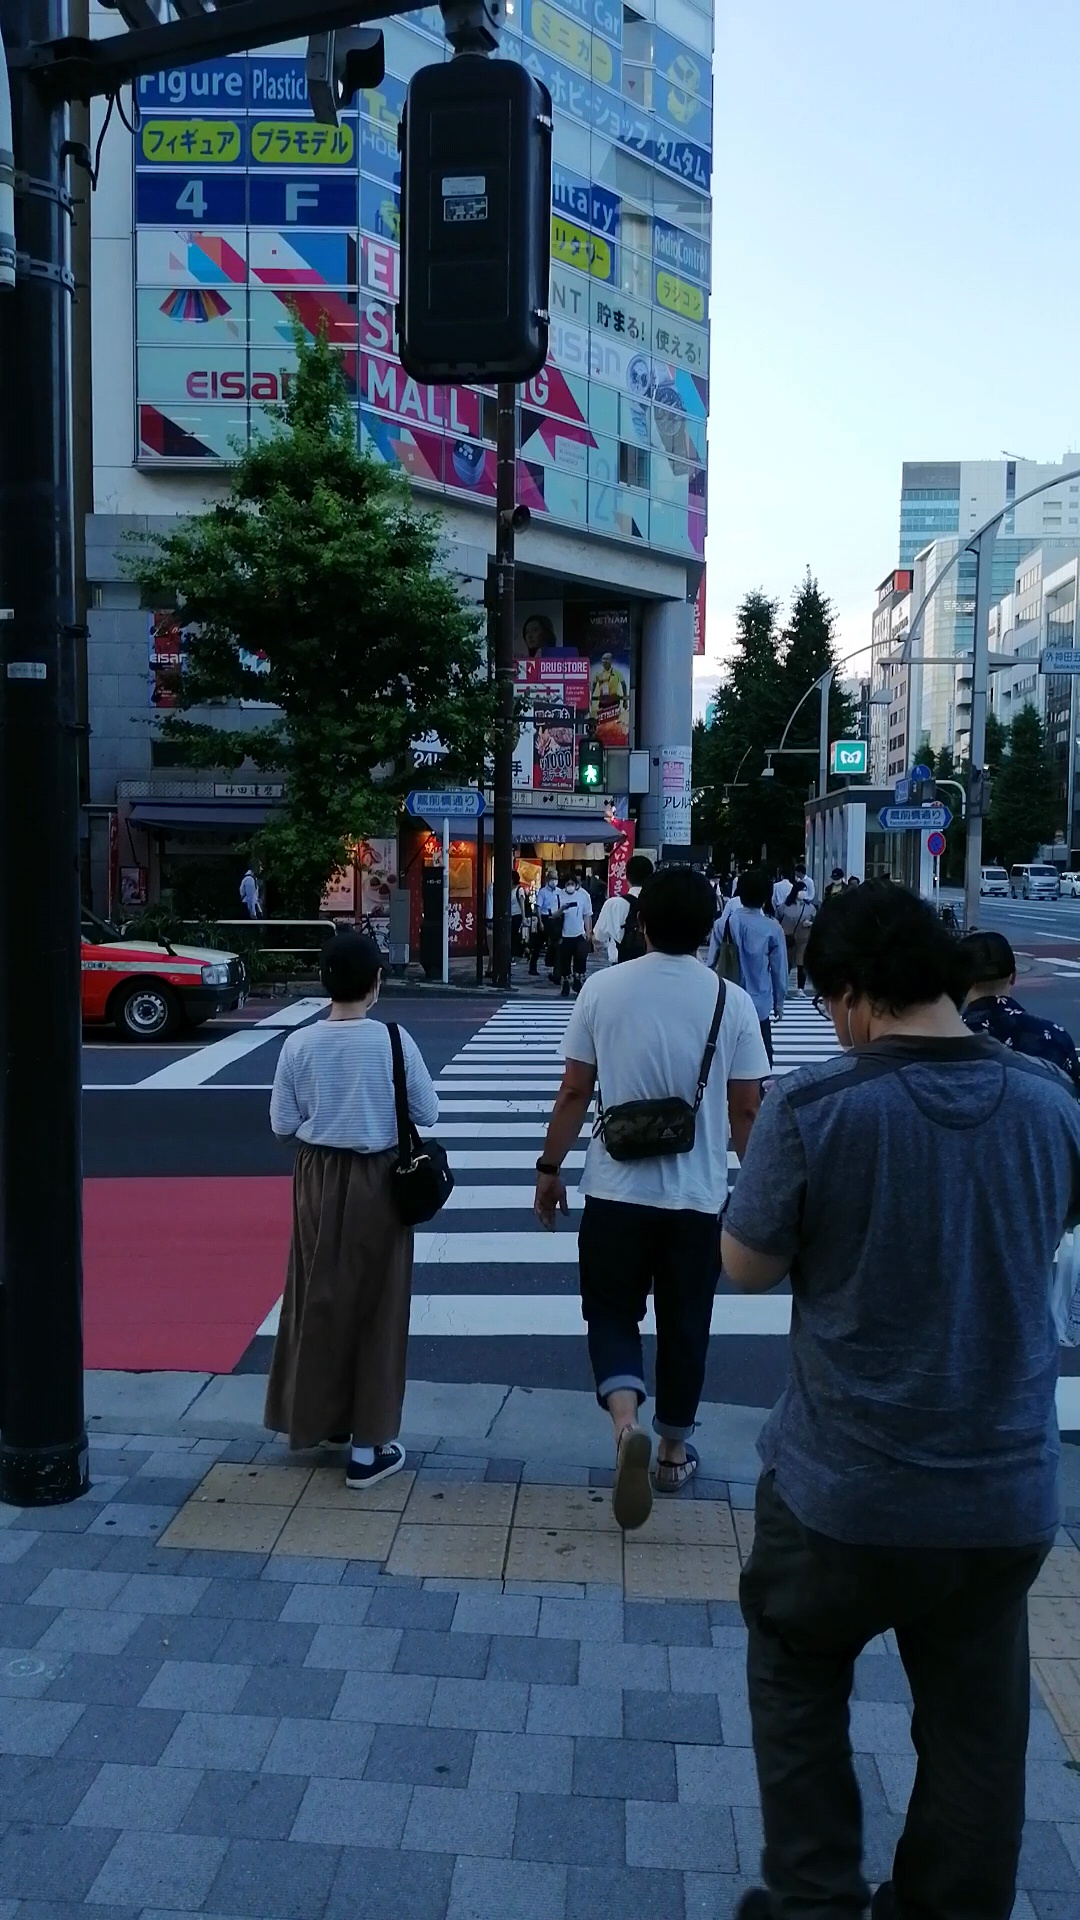green: (574, 737, 604, 789)
